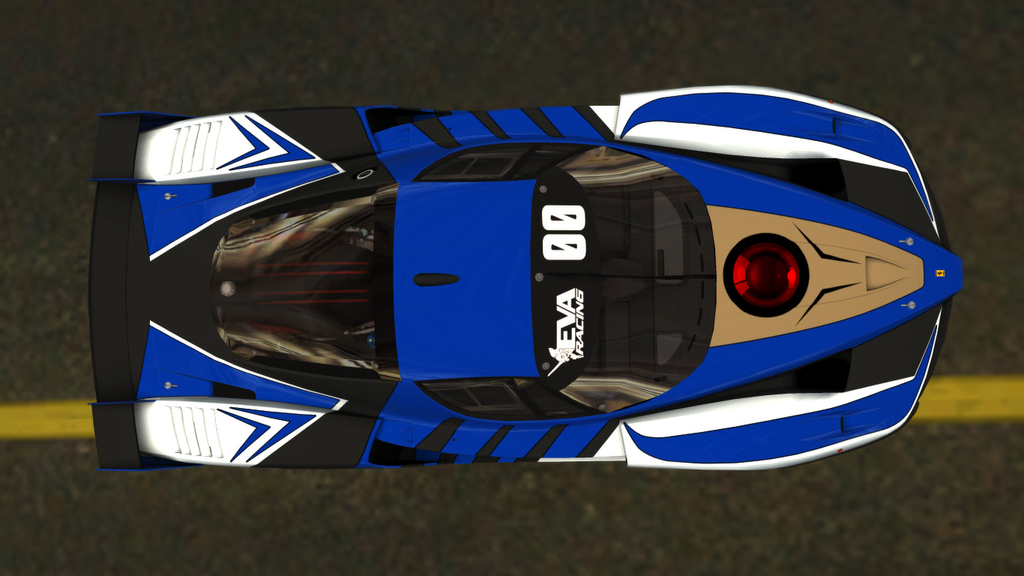Car: (133, 74, 967, 474)
